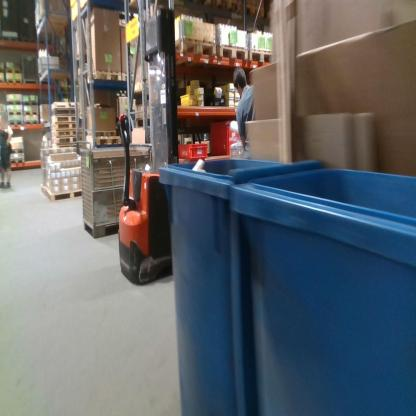pallet: (174, 37, 217, 58), (86, 69, 123, 86), (48, 187, 83, 203), (218, 42, 248, 60), (248, 48, 273, 63), (94, 134, 123, 145), (52, 128, 77, 138), (53, 114, 76, 122), (50, 107, 76, 114), (93, 130, 117, 137), (52, 138, 77, 144), (53, 122, 77, 128), (23, 110, 39, 117), (9, 148, 24, 155), (10, 158, 25, 165), (22, 36, 37, 43), (5, 68, 21, 74), (122, 74, 137, 80), (8, 120, 23, 126), (7, 110, 22, 116), (7, 100, 22, 106), (2, 35, 17, 41), (6, 79, 22, 84), (23, 101, 38, 106), (24, 120, 39, 125)
pallet_truck: (114, 5, 180, 286)
small_load_carrier: (209, 118, 242, 157), (176, 140, 209, 161)
stillage: (82, 144, 150, 239), (21, 53, 38, 83)
